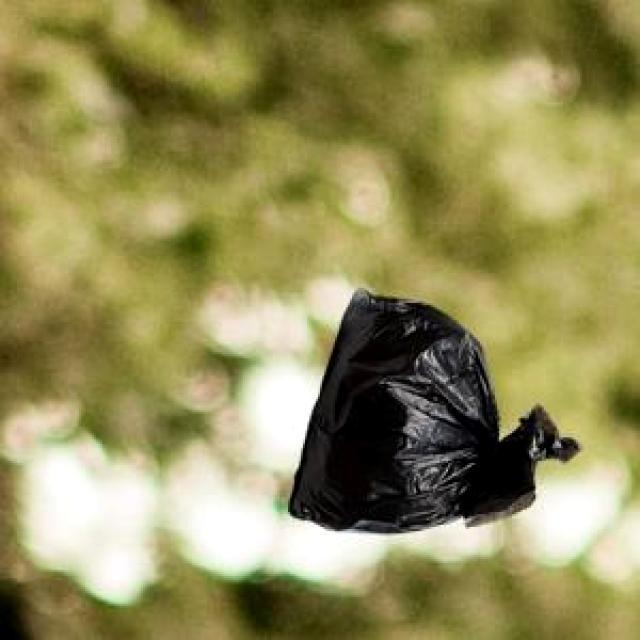Garbage_Bag: (284, 284, 580, 530)
